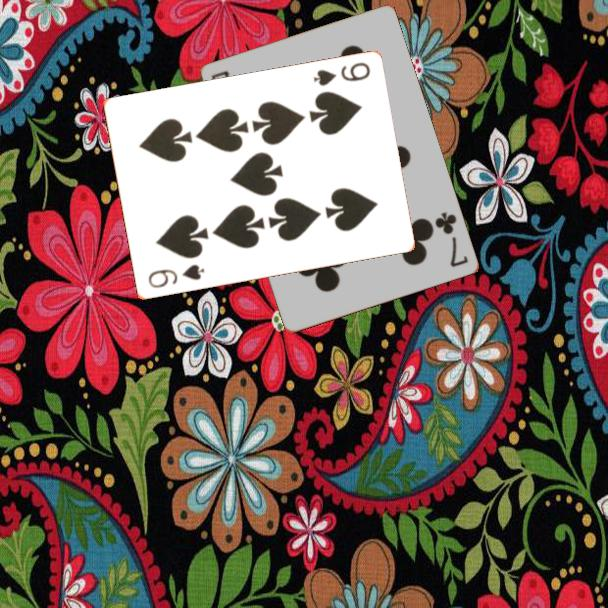c07: (431, 208, 471, 270)
s09: (144, 261, 207, 291), (310, 59, 373, 89)
